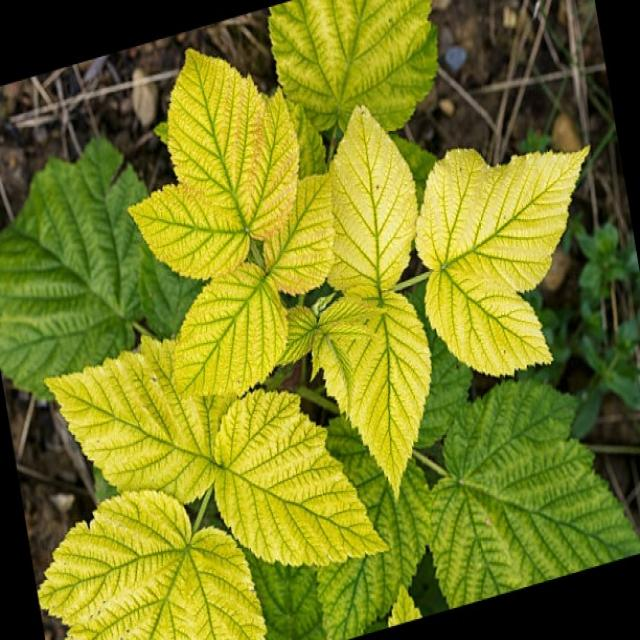Chlorosis: (25, 25, 629, 640)
